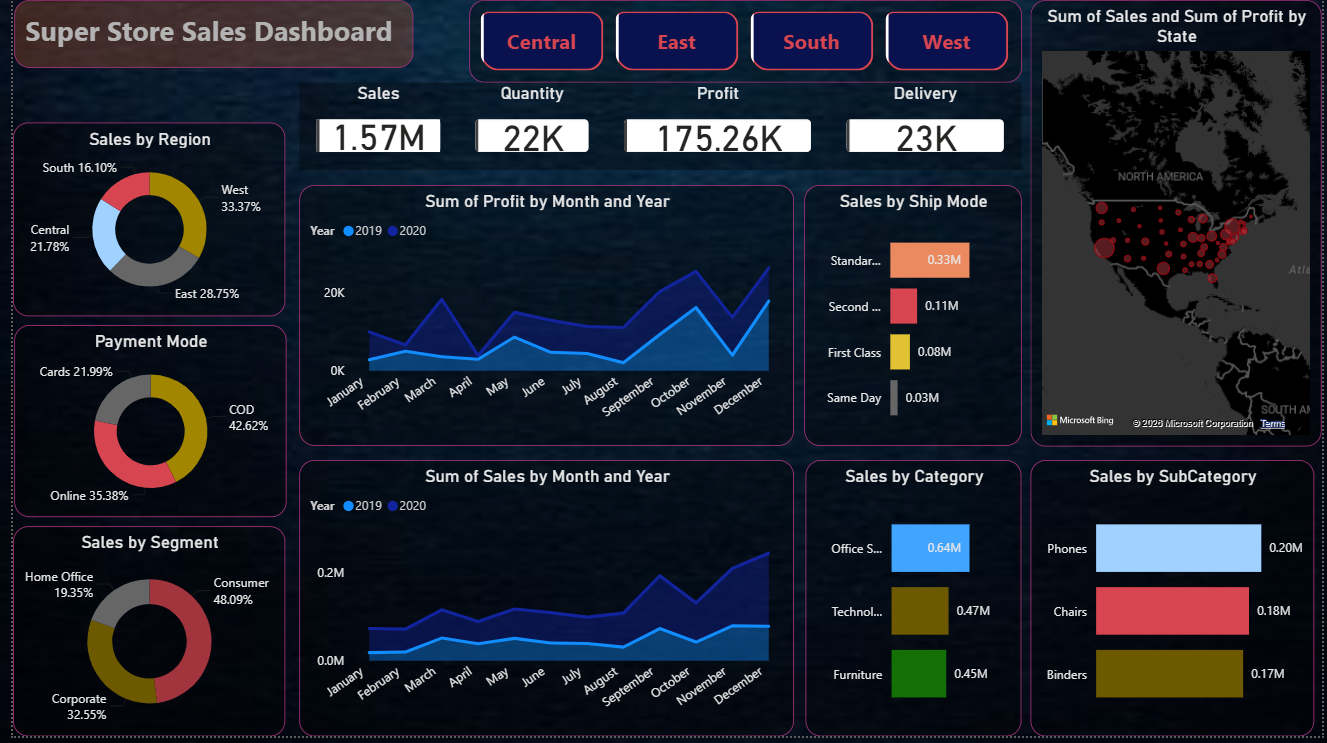

Layout of this report page (visuals, bound fields, positions):
{"tool":"powerbi","page":{"name":"Page 1","canvas":[1280,720],"ordinal":0},"visuals":[{"type":"clusteredBarChart","title":"Sales by Category","fields":{"Category":["SuperStore_Sales_Dataset.Category"],"Y":["Sum(SuperStore_Sales_Dataset.Sales)"]},"box":[775.3,450,211.6,270.2],"z":0},{"type":"clusteredBarChart","title":"Sales by SubCategory","fields":{"Category":["SuperStore_Sales_Dataset.Sub-Category"],"Y":["Sum(SuperStore_Sales_Dataset.Sales)"]},"box":[995.4,450,277.6,270.2],"z":1000},{"type":"clusteredBarChart","title":"Sales by Ship Mode","fields":{"Category":["SuperStore_Sales_Dataset.Ship Mode"],"Y":["Sum(SuperStore_Sales_Dataset.Sales)"]},"box":[774.1,181,212.8,255.6],"z":2000},{"type":"stackedAreaChart","fields":{"Category":["SuperStore_Sales_Dataset.Order Date.Variation.Date Hierarchy.Month","SuperStore_Sales_Dataset.Order Date.Variation.Date Hierarchy.Day"],"Series":["SuperStore_Sales_Dataset.Order Date.Variation.Date Hierarchy.Year"],"Y":["Sum(SuperStore_Sales_Dataset.Profit)"]},"box":[280,181,484.2,255.6],"z":3000},{"type":"stackedAreaChart","fields":{"Y":["Sum(SuperStore_Sales_Dataset.Sales)"],"Category":["SuperStore_Sales_Dataset.Order Date.Variation.Date Hierarchy.Month","SuperStore_Sales_Dataset.Order Date.Variation.Date Hierarchy.Day"],"Series":["SuperStore_Sales_Dataset.Order Date.Variation.Date Hierarchy.Year"]},"box":[280,450,484.2,270.2],"z":4000},{"type":"map","fields":{"Category":["SuperStore_Sales_Dataset.State"],"Size":["Sum(SuperStore_Sales_Dataset.Sales)"]},"box":[995.4,0,284.9,436.6],"z":5000},{"type":"donutChart","title":"Sales by Segment","fields":{"Category":["SuperStore_Sales_Dataset.Segment"],"Y":["Sum(SuperStore_Sales_Dataset.Sales)"]},"box":[0,514.8,266.6,205.4],"z":6000},{"type":"donutChart","title":"Payment Mode","fields":{"Category":["SuperStore_Sales_Dataset.Payment Mode"],"Y":["Sum(SuperStore_Sales_Dataset.Sales)"]},"box":[1.2,317.9,266.6,188.3],"z":7000},{"type":"advancedSlicerVisual","fields":{"Values":["SuperStore_Sales_Dataset.Region"]},"box":[446.3,0,540.5,80.7],"z":8000},{"type":"textbox","box":[1.2,0,390.1,66],"z":9000},{"type":"cardVisual","title":"Quantity","fields":{"Data":["Sum(SuperStore_Sales_Dataset.Quantity)"]},"box":[435.3,80.7,145.5,85.6],"z":10000},{"type":"cardVisual","title":"Sales","fields":{"Data":["Sum(SuperStore_Sales_Dataset.Sales)"]},"box":[280,80.7,155.3,85.6],"z":11000},{"type":"cardVisual","title":"Profit","fields":{"Data":["Sum(SuperStore_Sales_Dataset.Profit)"]},"box":[580.8,80.7,217.7,85.6],"z":12000},{"type":"cardVisual","title":"Delivery","fields":{"Data":["Sum(SuperStore_Sales_Dataset.AvgDelivery)"]},"box":[798.5,80.7,188.3,85.6],"z":13000},{"type":"donutChart","title":"Sales by Region","fields":{"Y":["Sum(SuperStore_Sales_Dataset.Sales)"],"Category":["SuperStore_Sales_Dataset.Region"]},"box":[0,119.8,266.6,189.5],"z":13001}]}

Visuals, with their boxes in screenshot pixels (x1, y1, x2, y2), scaled from the page's 1280x720 canvas onto the 1327x743 screenshot:
"Sales by Category" clusteredBarChart: x1=804 y1=464 x2=1023 y2=742
"Sales by SubCategory" clusteredBarChart: x1=1032 y1=464 x2=1320 y2=742
"Sales by Ship Mode" clusteredBarChart: x1=803 y1=187 x2=1023 y2=451
stackedAreaChart - SuperStore_Sales_Dataset.Order Date.Variation.Date Hierarchy.Month x SuperStore_Sales_Dataset.Order Date.Variation.Date Hierarchy.Day: x1=290 y1=187 x2=792 y2=451
stackedAreaChart - Sum(SuperStore_Sales_Dataset.Sales) x SuperStore_Sales_Dataset.Order Date.Variation.Date Hierarchy.Month: x1=290 y1=464 x2=792 y2=742
map - SuperStore_Sales_Dataset.State x Sum(SuperStore_Sales_Dataset.Sales): x1=1032 y1=0 x2=1326 y2=451
"Sales by Segment" donutChart: x1=0 y1=531 x2=276 y2=742
"Payment Mode" donutChart: x1=1 y1=328 x2=278 y2=522
advancedSlicerVisual - SuperStore_Sales_Dataset.Region: x1=463 y1=0 x2=1023 y2=83
textbox: x1=1 y1=0 x2=406 y2=68
"Quantity" cardVisual: x1=451 y1=83 x2=602 y2=172
"Sales" cardVisual: x1=290 y1=83 x2=451 y2=172
"Profit" cardVisual: x1=602 y1=83 x2=828 y2=172
"Delivery" cardVisual: x1=828 y1=83 x2=1023 y2=172
"Sales by Region" donutChart: x1=0 y1=124 x2=276 y2=319
